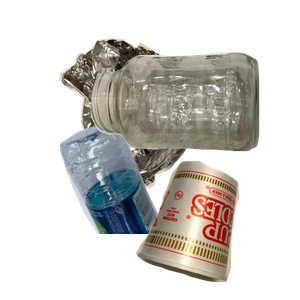glass: (88, 50, 300, 194)
metal: (57, 36, 241, 216)
plastic: (57, 120, 284, 300)
trash: (133, 158, 300, 300)
